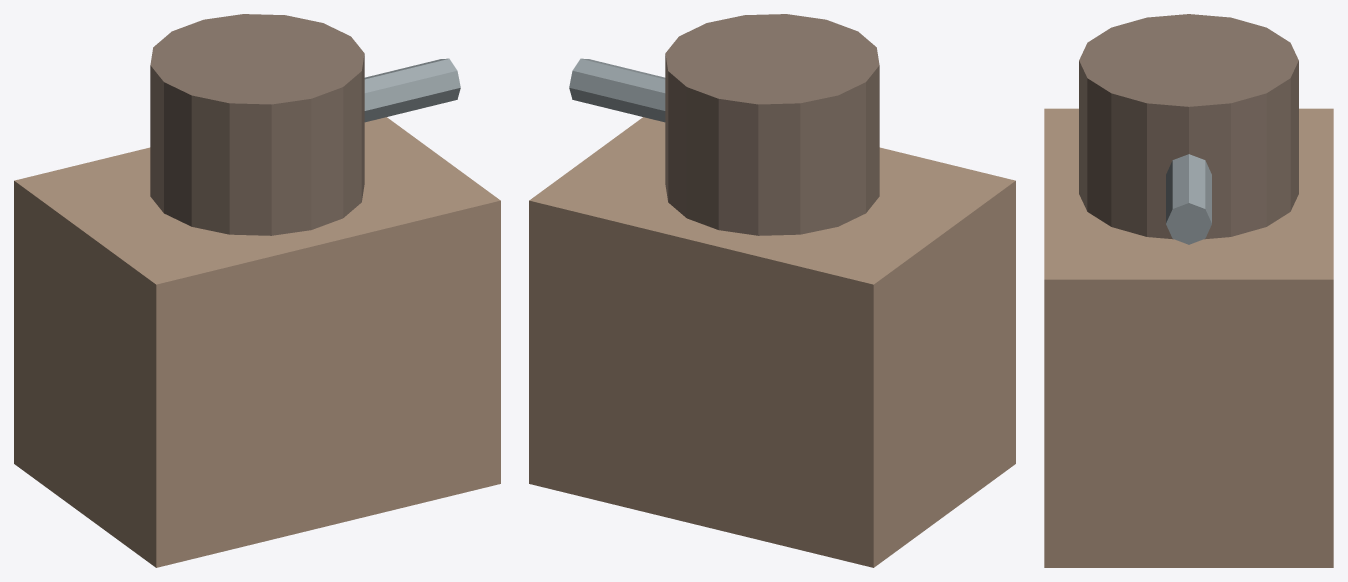
Rendered from nectar_maker.glb.
3 views of the same model, side by side, from view 1: azimuth 30°, elevation 25°; view 2: azimuth 150°, elevation 25°; view 3: azimuth 270°, elevation 25° (orthographic).
Visible parts, largest first — view 1: part_00, part_01, part_02; view 2: part_00, part_01, part_02; view 3: part_00, part_01, part_02.
Part boxes in pixels (box(x1,y1,x2,y2)): part_00: box(14, 117, 500, 567); part_01: box(150, 14, 364, 235); part_02: box(364, 58, 460, 122); part_00: box(529, 117, 1015, 567); part_01: box(665, 14, 879, 235); part_02: box(569, 58, 665, 122); part_00: box(1044, 108, 1333, 567); part_01: box(1079, 14, 1298, 239); part_02: box(1166, 154, 1211, 244).
Size of the model in its own units: 1.48 by 1.61 by 1.
